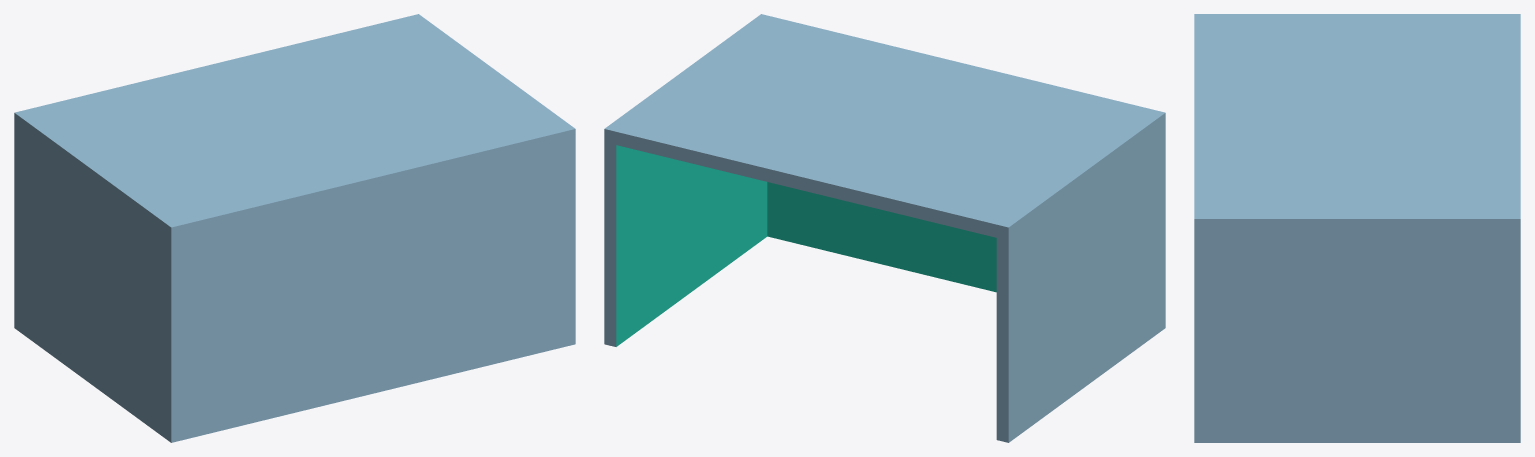
Rendered from KitchenTable02.fbx.
The picture shows the model from 3 angles, left to right: view 1: azimuth 30°, elevation 25°; view 2: azimuth 150°, elevation 25°; view 3: azimuth 270°, elevation 25°; orthographic projection. The views are drawn at different scales.
Parts seen in each view (by area): view 1: KitchenTable001; view 2: KitchenTable001; view 3: KitchenTable001.
Part boxes in pixels (x1,y1,x2,y2): KitchenTable001: (14,14,575,442); KitchenTable001: (604,14,1165,442); KitchenTable001: (1194,14,1520,442).
Size of the model in its own units: 100108 by 50960 by 67301.
Materials: 1 (1 with a texture image).
